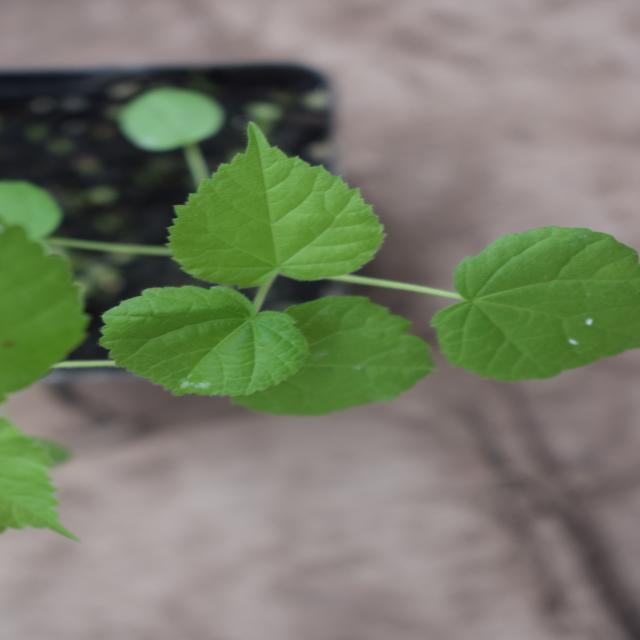abutilon theophrasti: (220, 99, 466, 622)
